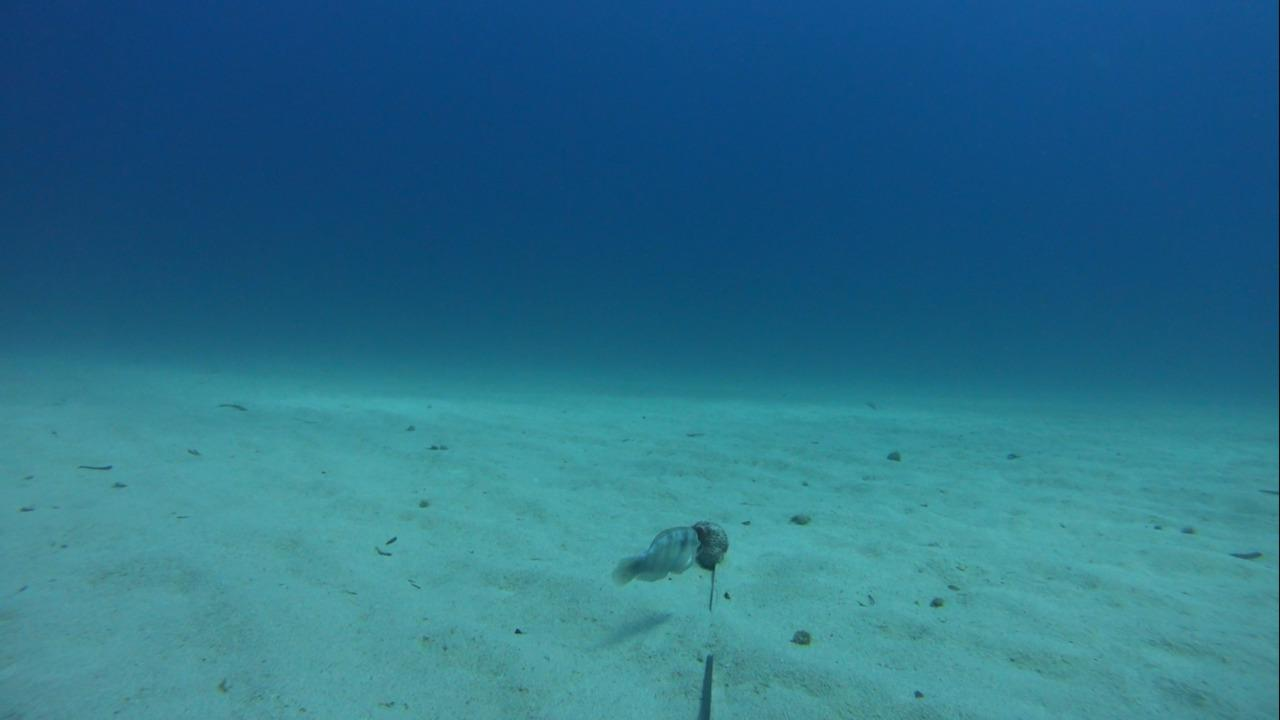raor: (607, 523, 702, 586)
